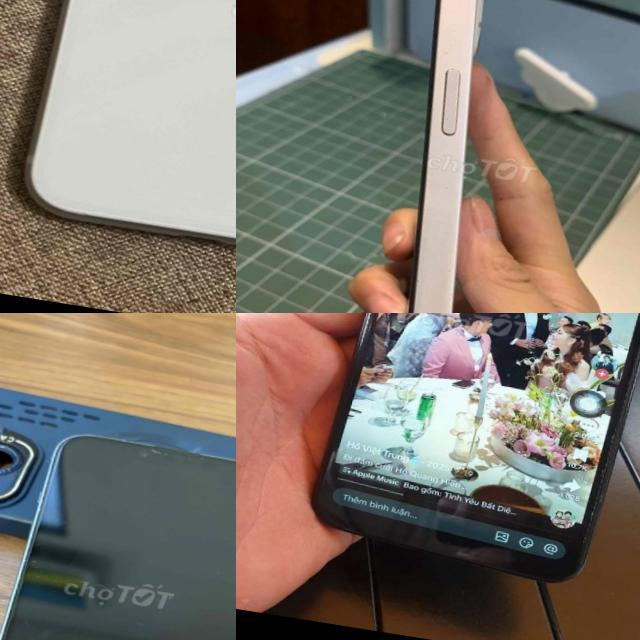gen_11: (314, 313, 640, 580)
gen_12_13: (353, 0, 527, 313)
gen_14: (0, 411, 236, 640)
gen_7_8: (9, 0, 236, 274)
